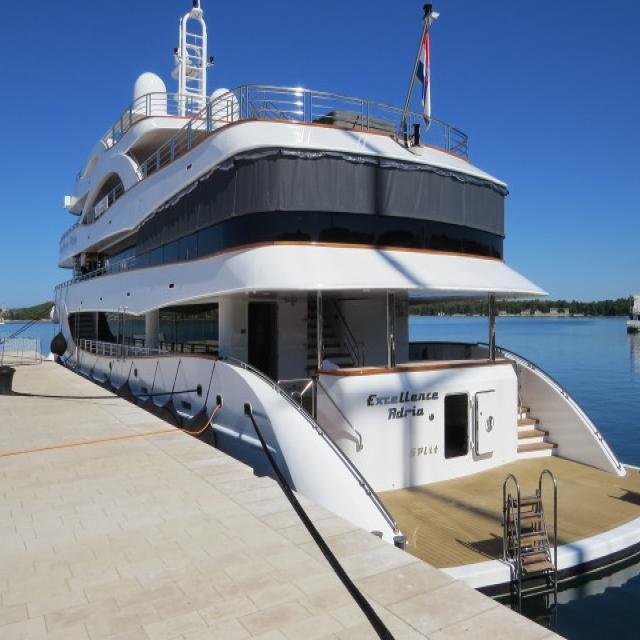cruises: (51, 3, 640, 635)
